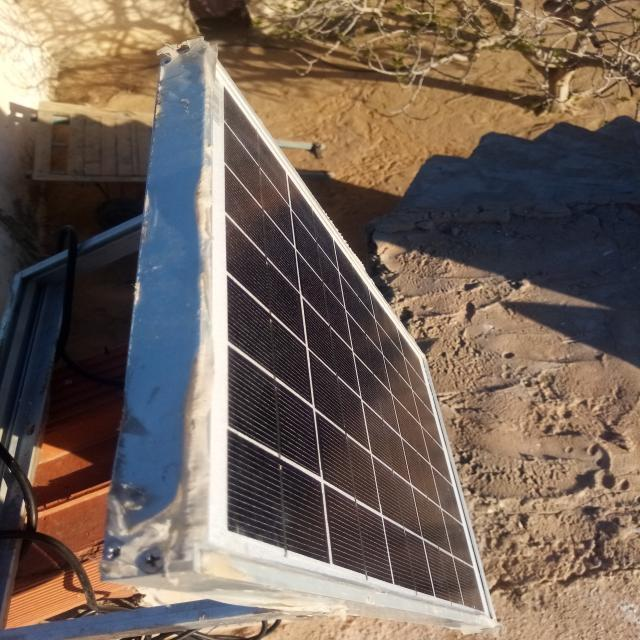Normal Solar Panel: (197, 55, 494, 618)
